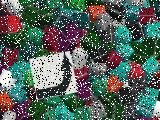Left: (29, 51, 78, 100)
